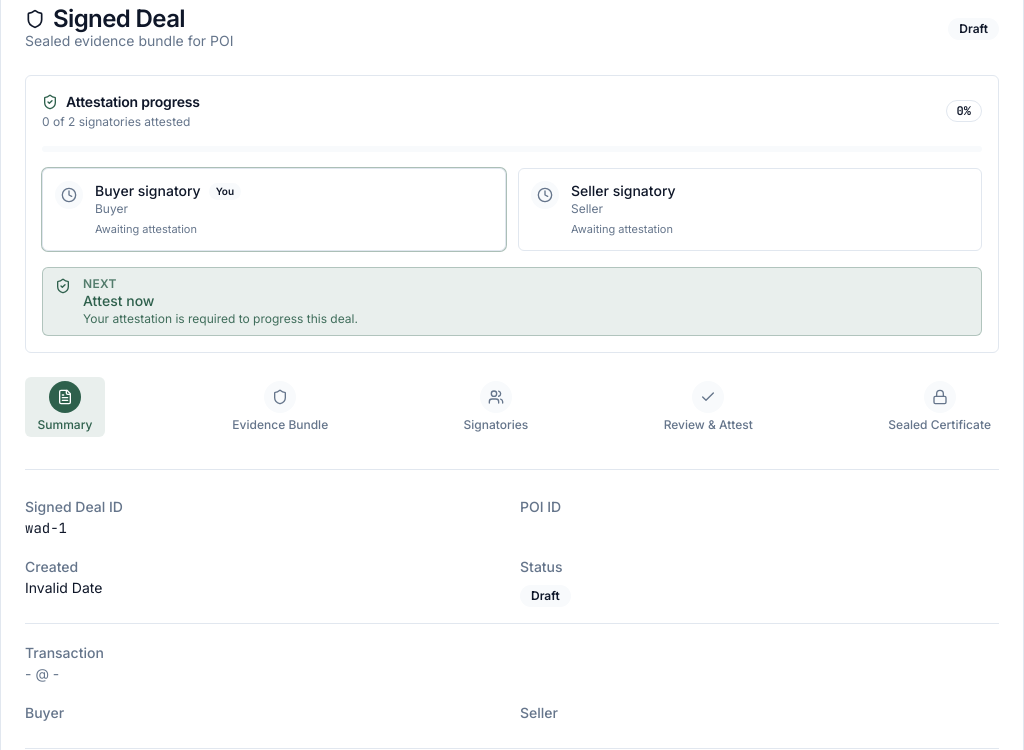
Test case: WadStepper attestation error hints › shows server-error hint as transient with Ref
The image size is (1024, 750).
Click the button "Review & Attest".
click(708, 407)  # box x1=656 y1=377 x2=761 y2=437
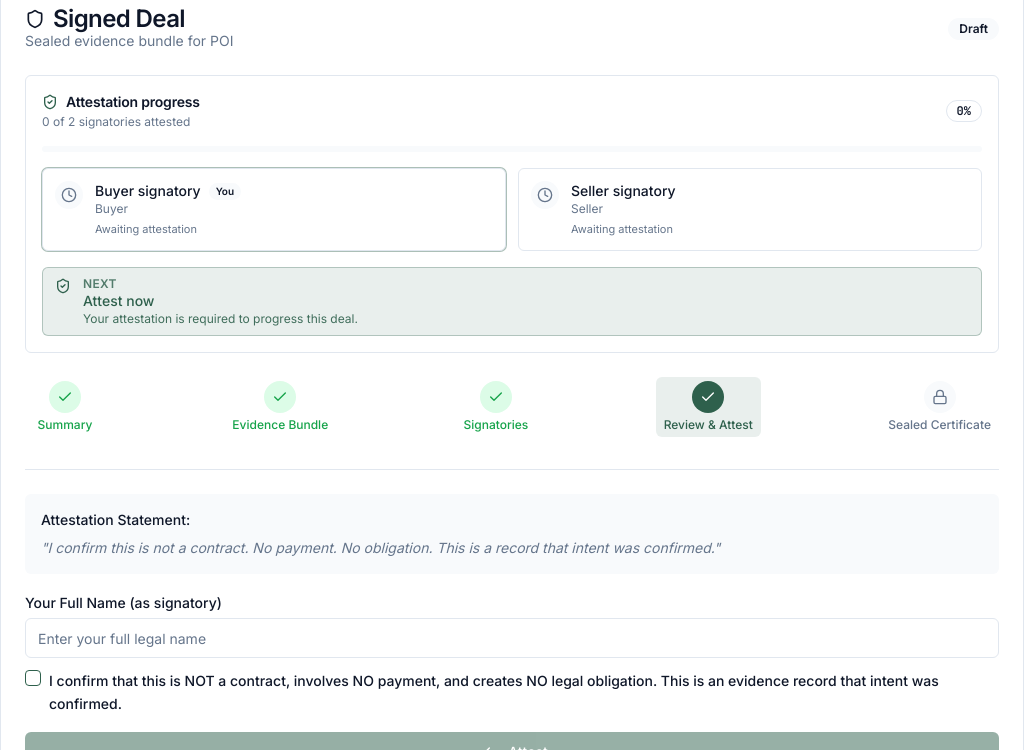
Type "Jane Doe" into the field labelled "Your Full Name (as signatory)".
click(512, 638); type("Jane Doe")  # box x1=25 y1=618 x2=999 y2=658
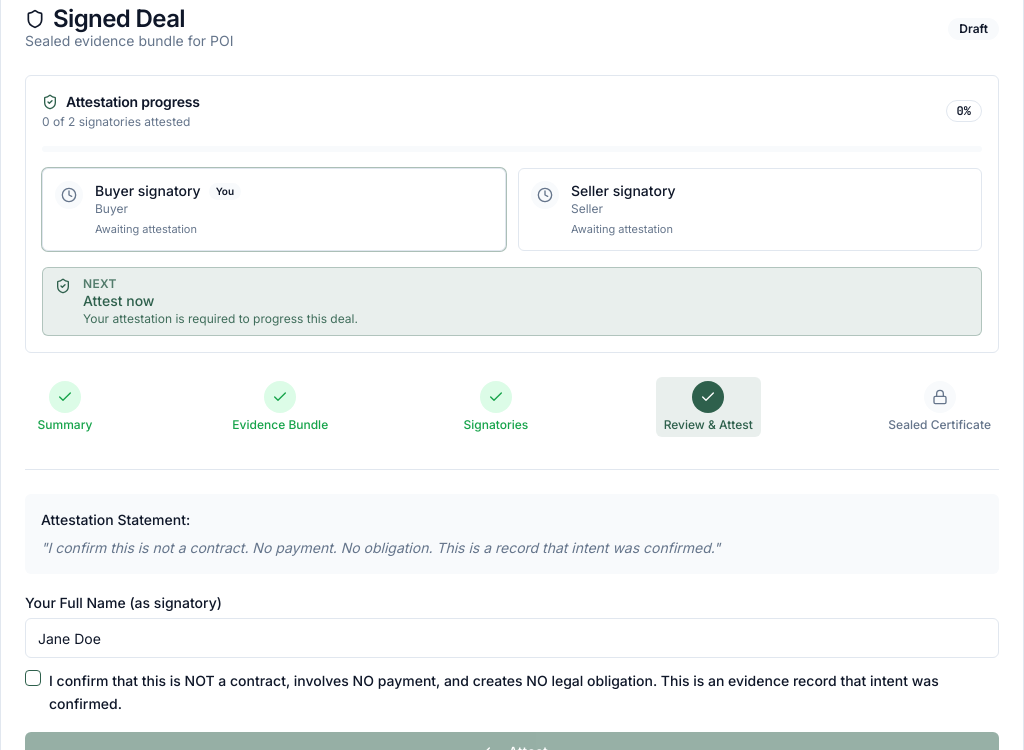
Click the checkbox named "i confirm that this is not a contract".
click(33, 678)  # box x1=25 y1=670 x2=41 y2=686
(page scrolled)
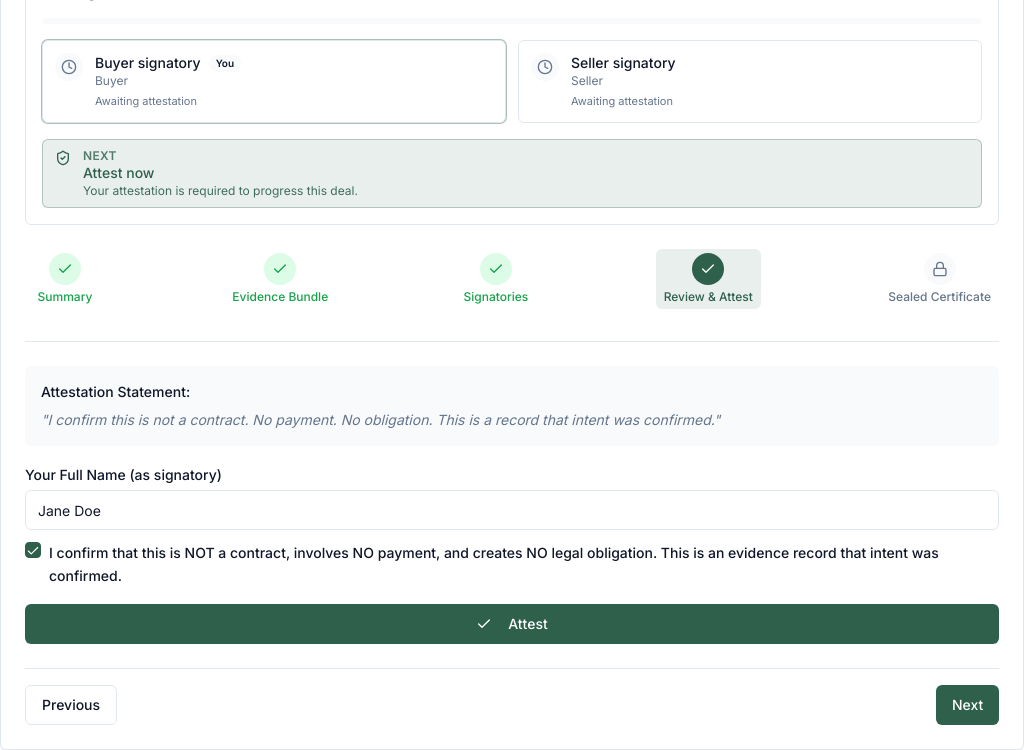
Click the button "Attest".
click(512, 624)  # box x1=25 y1=604 x2=999 y2=644
(page scrolled)
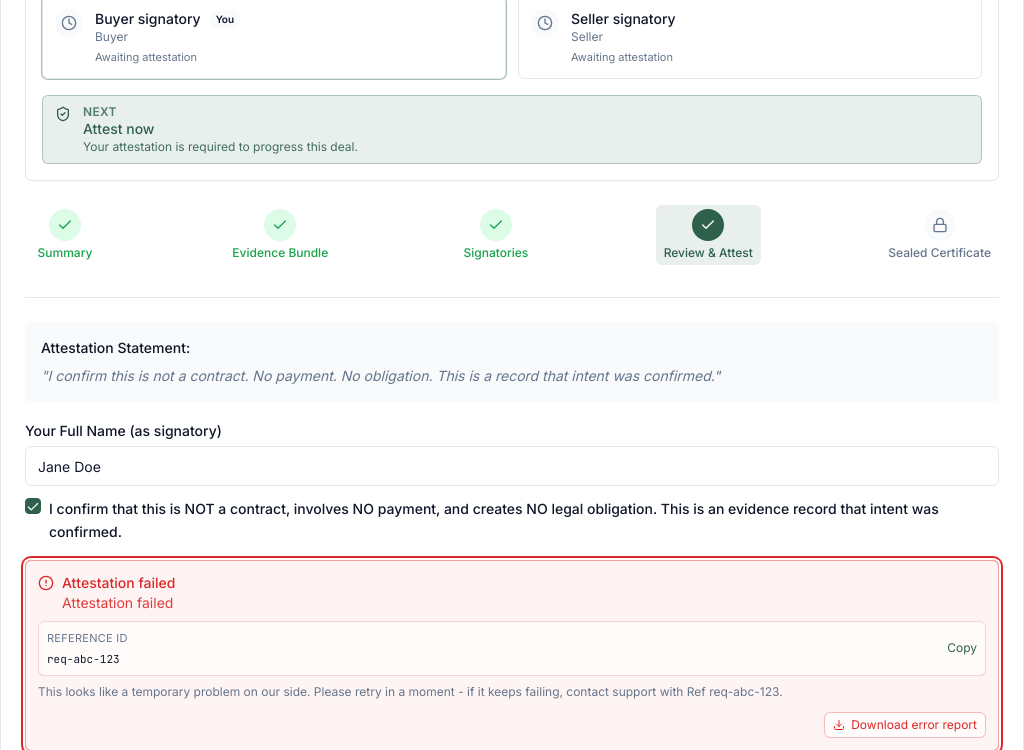
Now the text with test id "attest-error-hint" shows "temporary problem", box x1=38 y1=684 x2=783 y2=698
Now the text with test id "attest-error-hint" shows "Ref req-abc-123", box x1=38 y1=684 x2=783 y2=698
